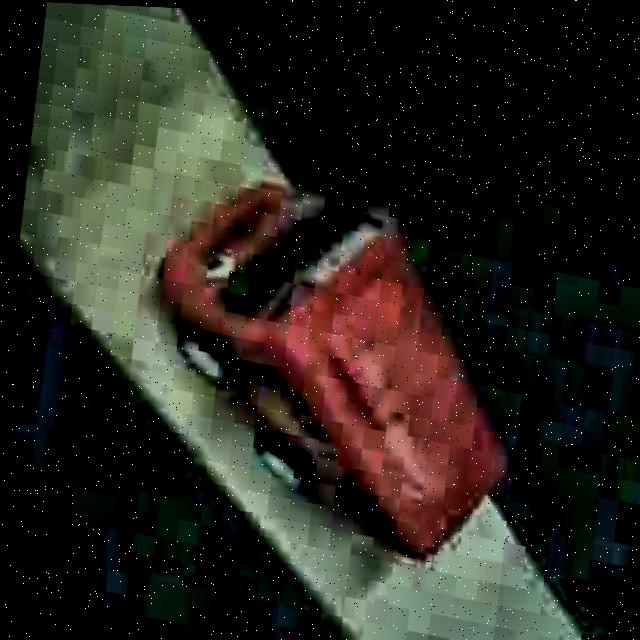bus: (110, 158, 554, 582)
